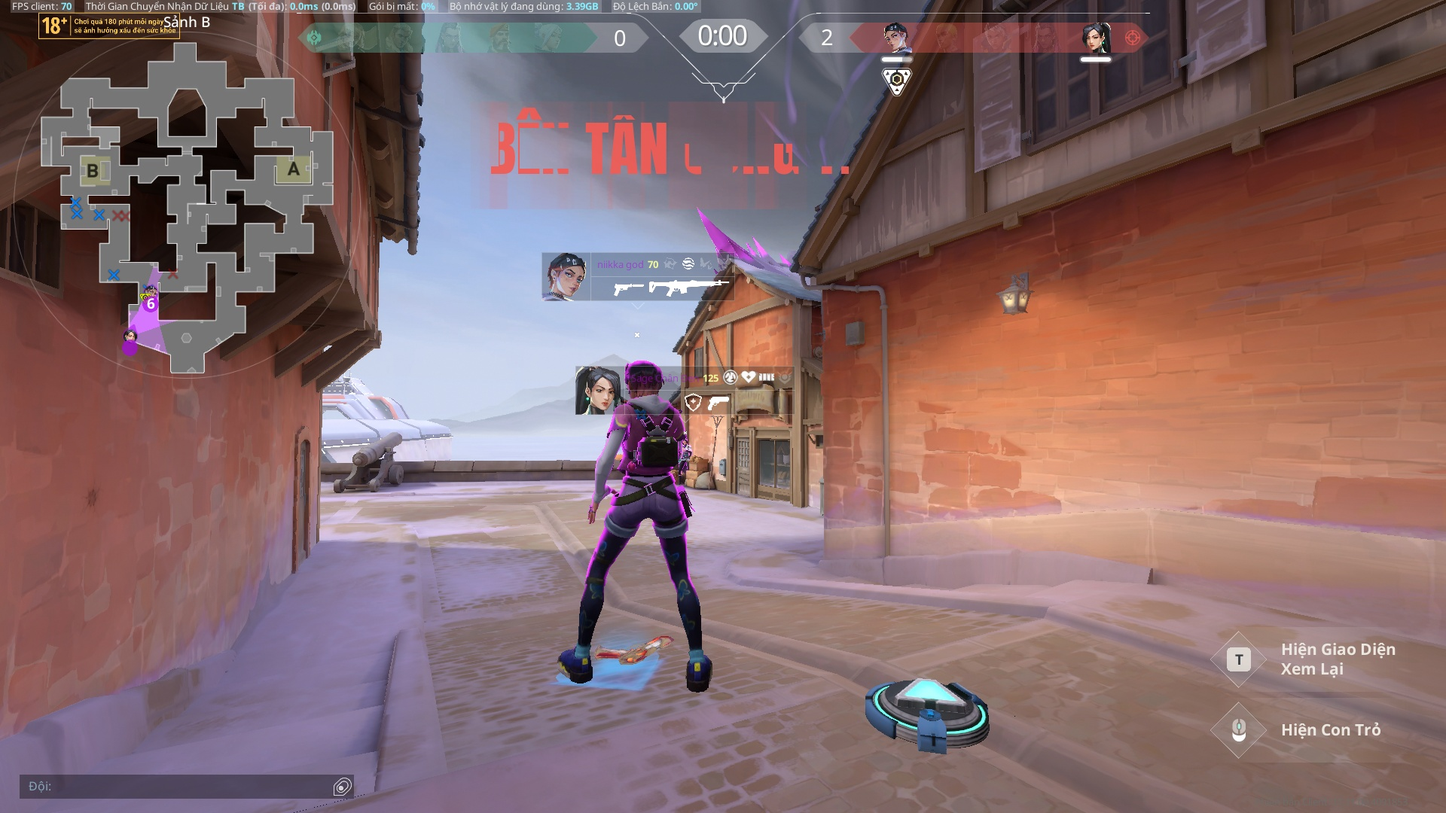body: (612, 401, 696, 490)
head: (623, 358, 663, 410)
